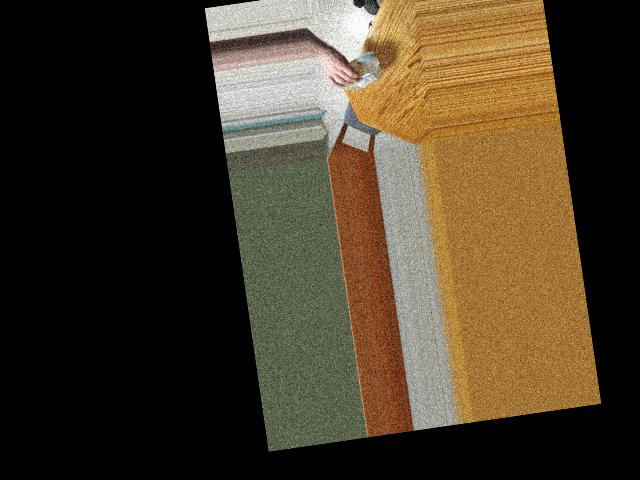cheese: (339, 55, 379, 90)
